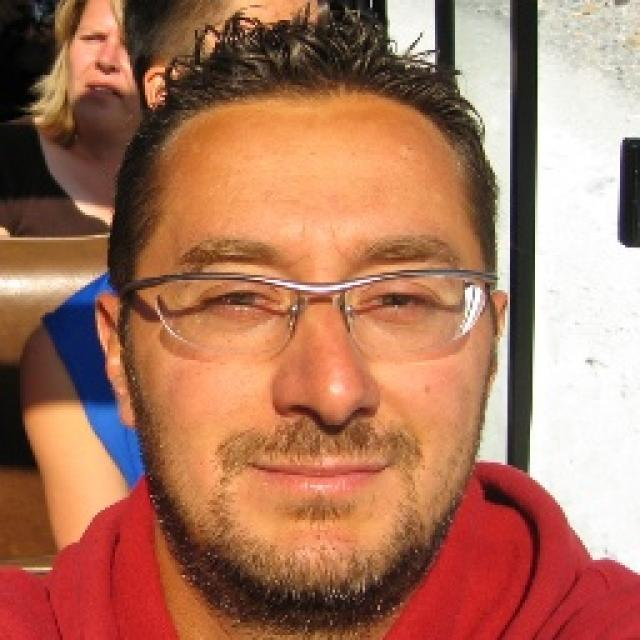earlobe: (94, 292, 138, 429), (143, 66, 182, 112), (488, 285, 509, 353)
